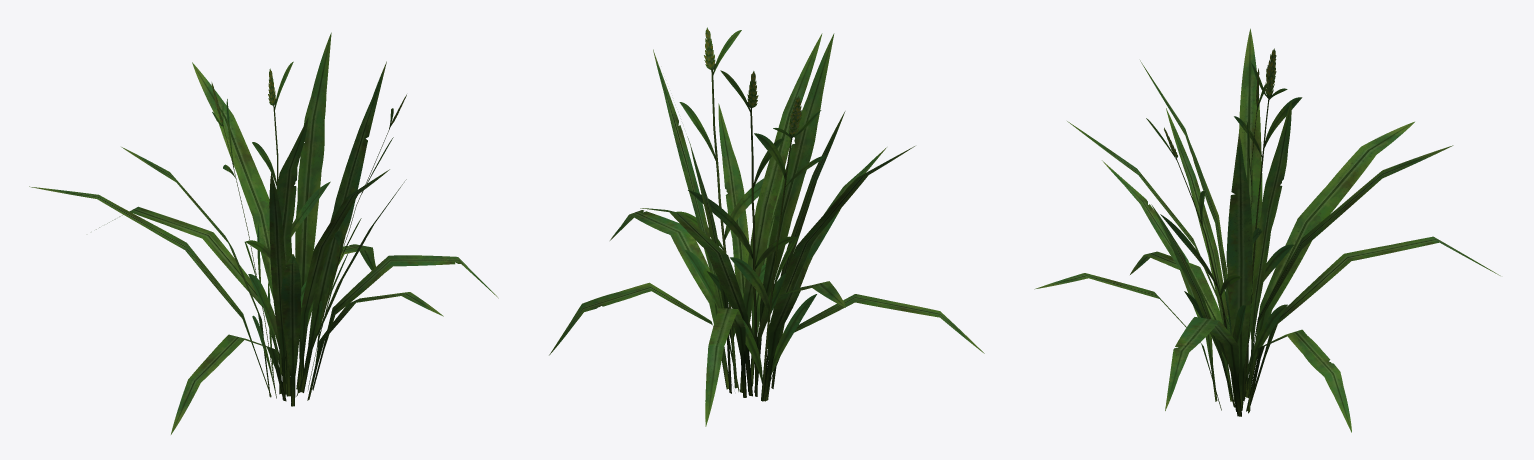
Rendered from Tropical_Grass.FBX.
The picture shows the model from 3 angles, left to right: view 1: azimuth 30°, elevation 25°; view 2: azimuth 150°, elevation 25°; view 3: azimuth 270°, elevation 25°; orthographic projection. The views are drawn at different scales.
Visible parts, largest first — view 1: Tropical_Grass; view 2: Tropical_Grass; view 3: Tropical_Grass.
Boxes of the visible parts, x1=… form: Tropical_Grass: x1=29, y1=32, x2=498, y2=434; Tropical_Grass: x1=549, y1=27, x2=984, y2=426; Tropical_Grass: x1=1034, y1=28, x2=1500, y2=432.
Size of the model in its own units: 166 by 151 by 188.
